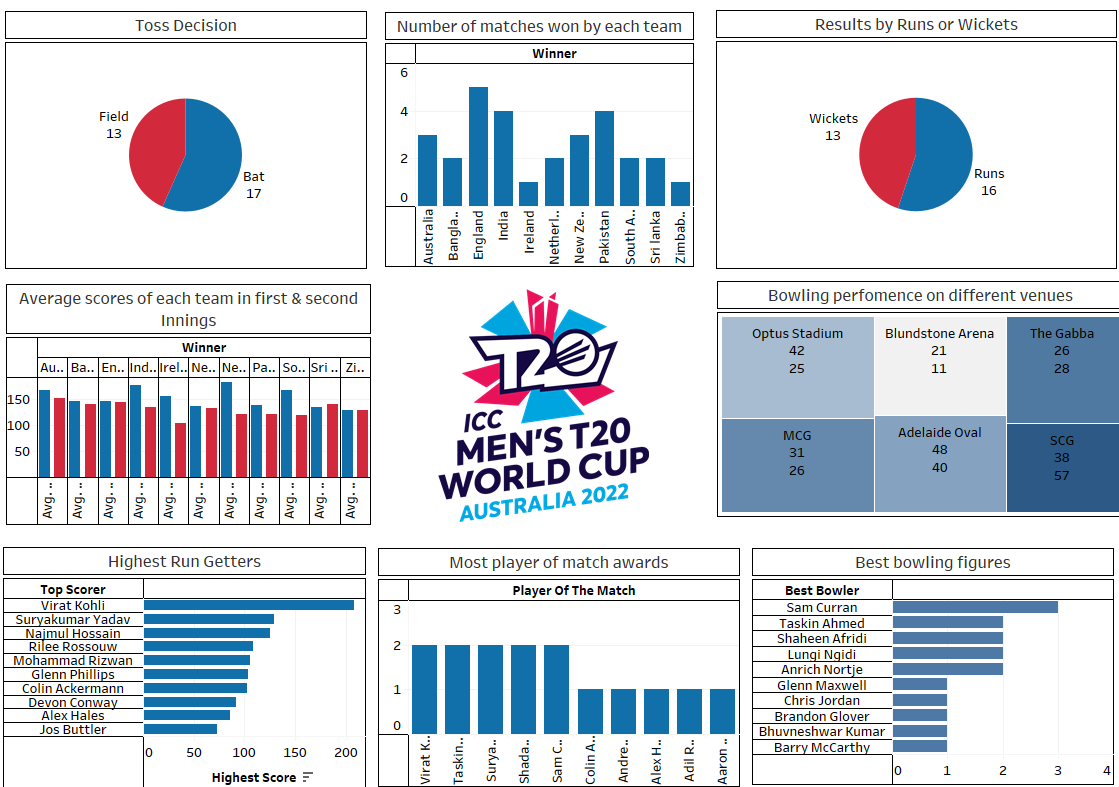

What the dashboard file says about the page in this screenshot:
{"tool":"tableau","page":{"name":"Dashboard 1","canvas":[1900,1300],"ordinal":0},"visuals":[{"type":"worksheet","title":"Results by Runs or Wickets","mark":"Pie","box":[716,10,401,259]},{"type":"worksheet","title":"Toss Decision","mark":"Pie","box":[5,11,362,258]},{"type":"worksheet","title":"Number of matches won by each team","mark":"Automatic","rows":["winner"],"cols":["winner"],"box":[385,12,309,255]},{"type":"worksheet","title":"Bowling perfomence on different venues","mark":"Automatic","box":[717,281,407,237]},{"type":"worksheet","title":"Average scores of each team in first & second Innings","mark":"Automatic","cols":["winner"],"box":[6,284,365,242]},{"type":"image","param":"C:/Users/Mubashir Hussain/Documents/Tableau Projects/2022_ICC_Men's_T20_World_Cu","box":[382,289,324,233]},{"type":"worksheet","title":"Highest Run Getters","mark":"Automatic","rows":["top scorer"],"cols":["highest score"],"box":[3,547,363,247]},{"type":"worksheet","title":"Most player of match awards","mark":"Automatic","rows":["Calculation_323414788519284737"],"cols":["player of the match"],"box":[378,548,362,240]},{"type":"worksheet","title":"Best bowling figures ","mark":"Automatic","rows":["best bowler"],"cols":["best bowling figure"],"box":[752,548,362,237]}]}

Visuals, with their boxes in screenshot pixels (x1, y1, x2, y2), scaled from the page's 1900x1300 canvas onto the 1119x787 screenshot:
"Results by Runs or Wickets" worksheet (Pie marks): [422,6,658,163]
"Toss Decision" worksheet (Pie marks): [3,7,216,163]
"Number of matches won by each team" worksheet: [227,7,409,162]
"Bowling perfomence on different venues" worksheet: [422,170,662,314]
"Average scores of each team in first & second Innings" worksheet: [4,172,218,318]
image: [225,175,416,316]
"Highest Run Getters" worksheet: [2,331,216,481]
"Most player of match awards" worksheet: [223,332,436,477]
"Best bowling figures " worksheet: [443,332,656,475]
